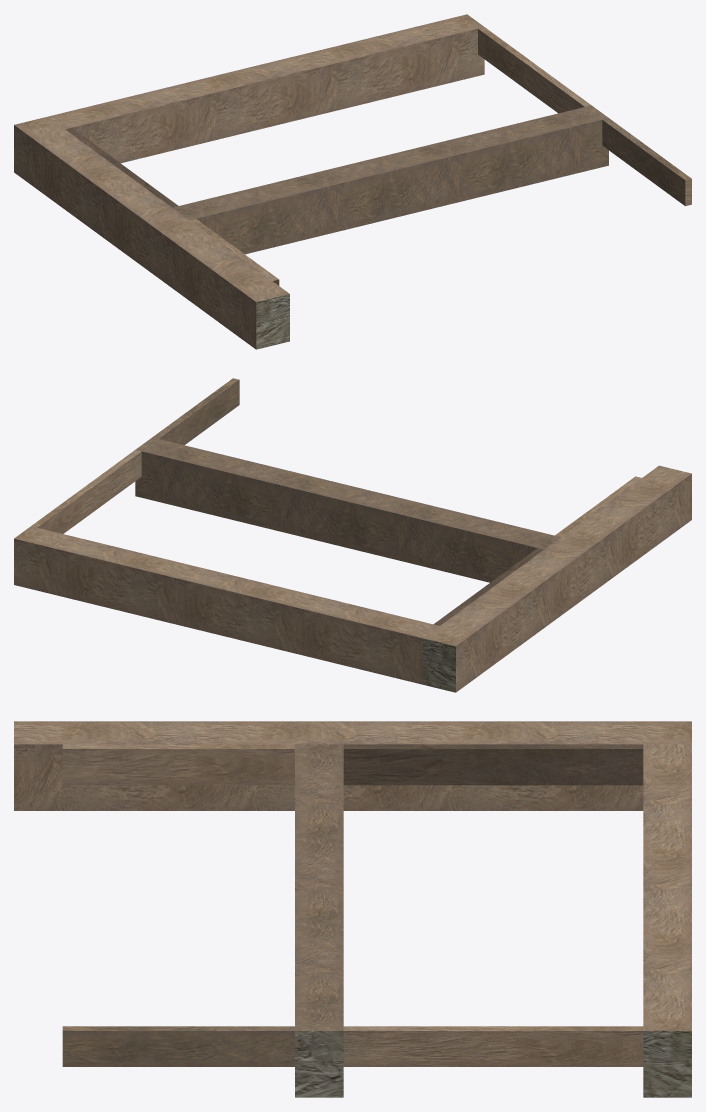
File: RafterCenterF.fbx
3 renders of one model, top to bottom at view 1: azimuth 30°, elevation 25°; view 2: azimuth 150°, elevation 25°; view 3: azimuth 270°, elevation 25°, orthographic. The views are drawn at different scales.
Visible parts, largest first — view 1: RafterCenterF; view 2: RafterCenterF; view 3: RafterCenterF.
Boxes of the visible parts, x1=… form: RafterCenterF: x1=14, y1=14, x2=691, y2=349; RafterCenterF: x1=14, y1=378, x2=691, y2=692; RafterCenterF: x1=14, y1=721, x2=691, y2=1097.
Size of the model in its own units: 404 by 40.53 by 374.
